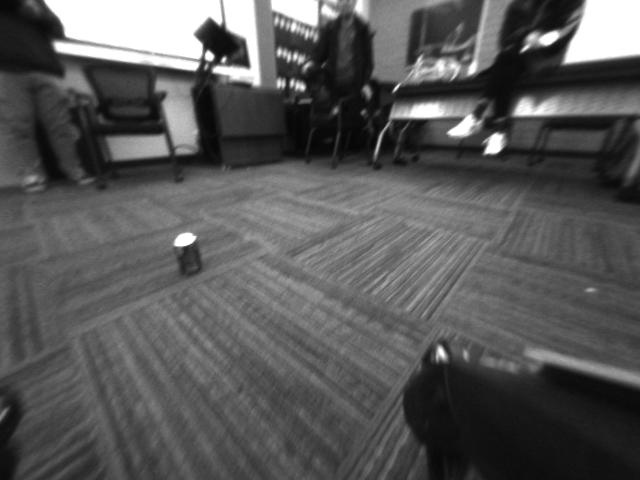can: (165, 228, 210, 288)
